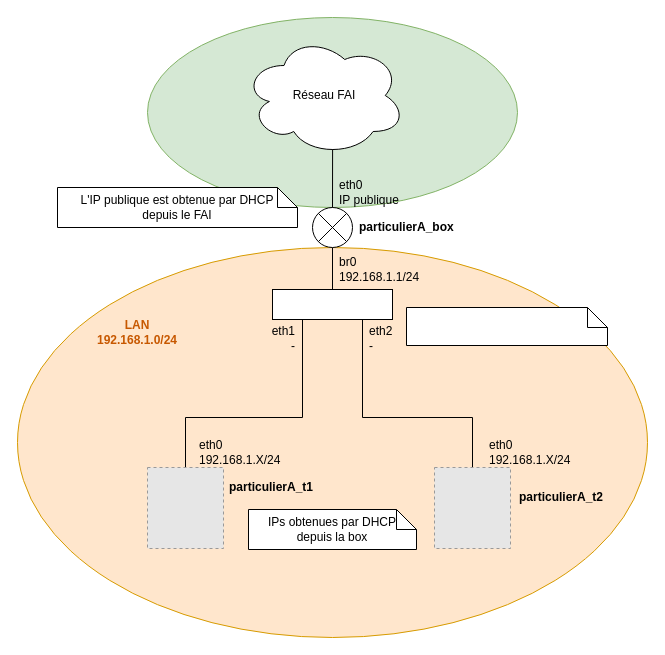
The diagram is 665 pixels wide and 655 high, and some of its shapes have lost their labels. Grey dashed boxes stand in for pictures. The centre of each missing label's shape, as x and y in pixels:
"Pour un particulier le switch est intégré à la box" belongs at (507,326).
"SWITCH" belongs at (332,304).
